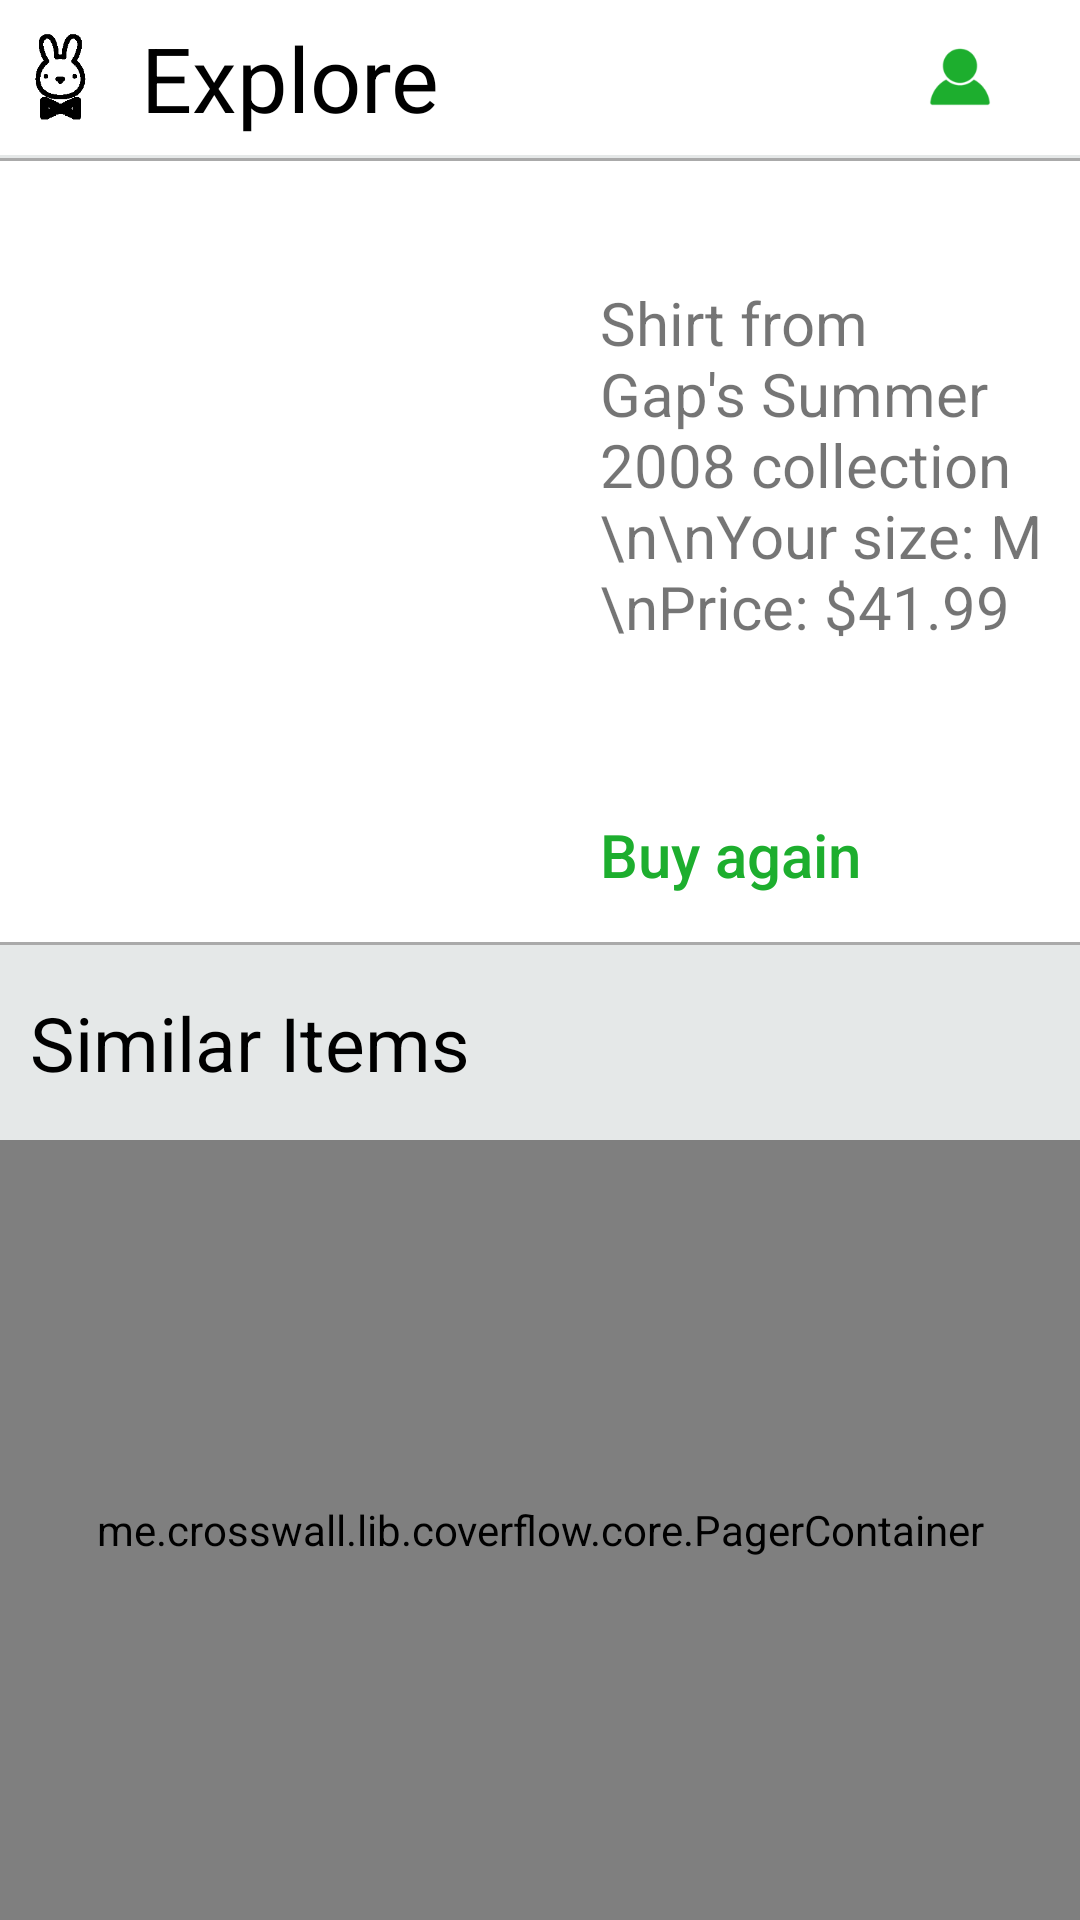

Where to tap for icons on this 1080px x 1920px app screen, as (x,y):
profile: (960,76)
